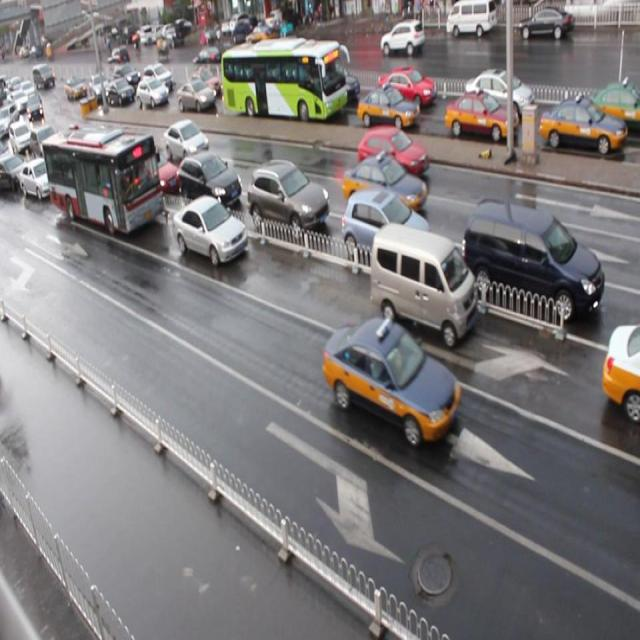car: (321, 318, 460, 447), (340, 188, 430, 272), (248, 159, 328, 233), (541, 94, 628, 158), (172, 193, 248, 266), (342, 156, 426, 217), (356, 123, 428, 183), (446, 92, 518, 145), (602, 319, 640, 419), (177, 150, 242, 208), (464, 68, 536, 119), (358, 86, 418, 133), (587, 82, 640, 134), (376, 69, 434, 111), (163, 116, 210, 166), (132, 145, 179, 194), (312, 61, 358, 107), (19, 157, 57, 200), (87, 134, 124, 174), (177, 78, 218, 114), (42, 131, 74, 171), (135, 78, 170, 109), (143, 60, 174, 95), (1, 152, 27, 192), (29, 128, 56, 162), (189, 70, 219, 97), (108, 78, 135, 106)
truck: (462, 195, 603, 326), (370, 222, 476, 348)
van: (43, 128, 164, 238), (221, 37, 346, 121)
